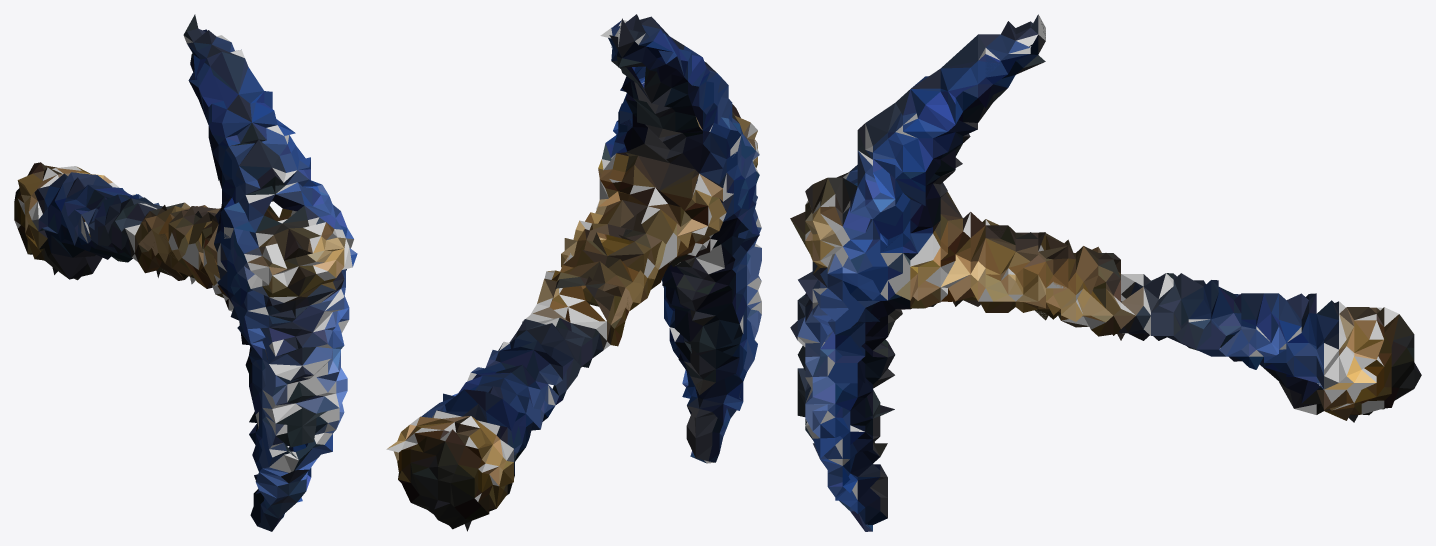
The model's file is B02_4_sapphire_pickaxe.obj.
3 views of the same model, side by side, from view 1: azimuth 30°, elevation 25°; view 2: azimuth 150°, elevation 25°; view 3: azimuth 270°, elevation 25° (orthographic). The views are drawn at different scales.
Parts seen in each view (by area): view 1: B02_4_sapphire_pickaxe; view 2: B02_4_sapphire_pickaxe; view 3: B02_4_sapphire_pickaxe.
Boxes of the visible parts, x1,y1,x2,y2 form: B02_4_sapphire_pickaxe: (14, 14, 357, 531); B02_4_sapphire_pickaxe: (386, 14, 761, 531); B02_4_sapphire_pickaxe: (790, 14, 1421, 531).
Size of the model in its own units: 19 by 76 by 84.
